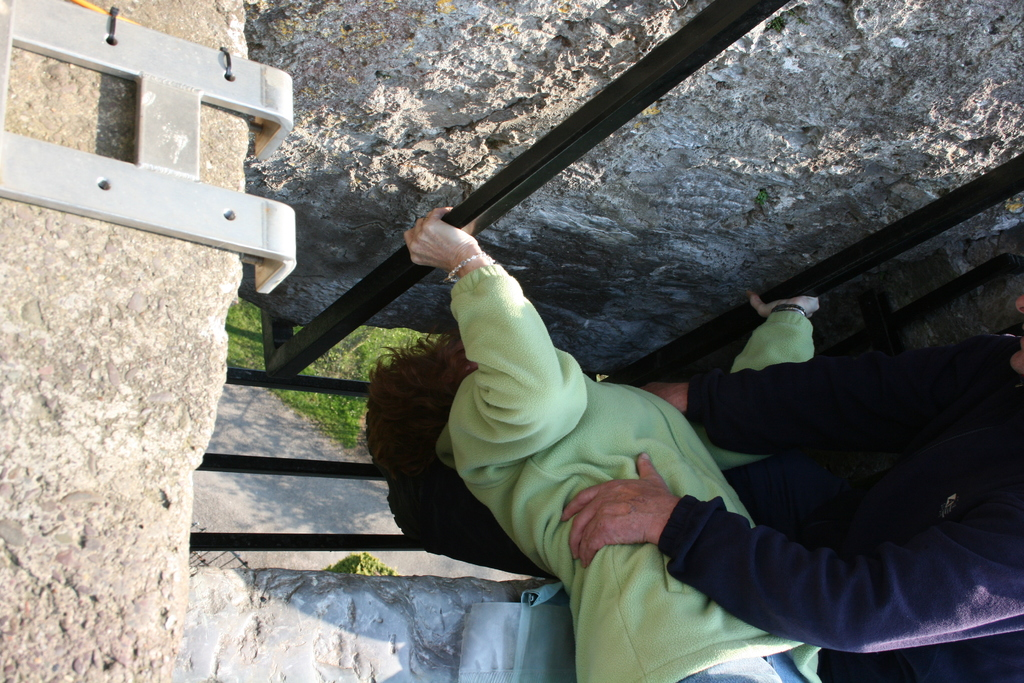Human_hand: (571, 479, 691, 562), (405, 206, 477, 274), (746, 292, 823, 318), (642, 379, 687, 415)
